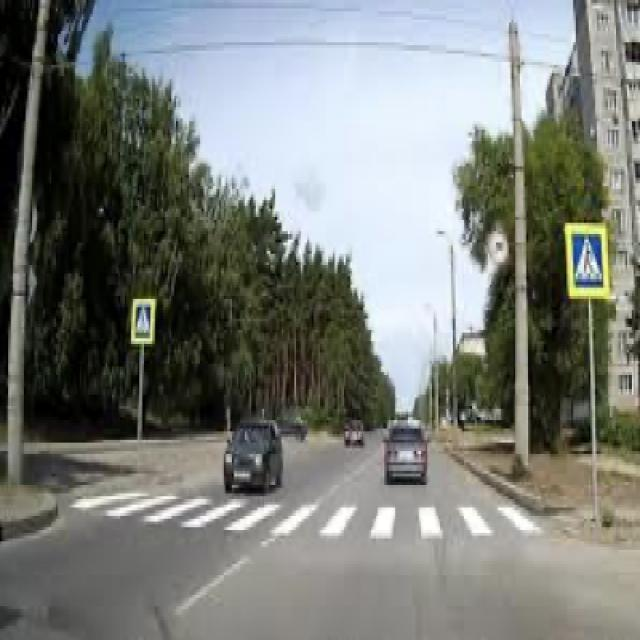crosswalk_sign: (570, 227, 608, 294), (133, 299, 154, 341)
